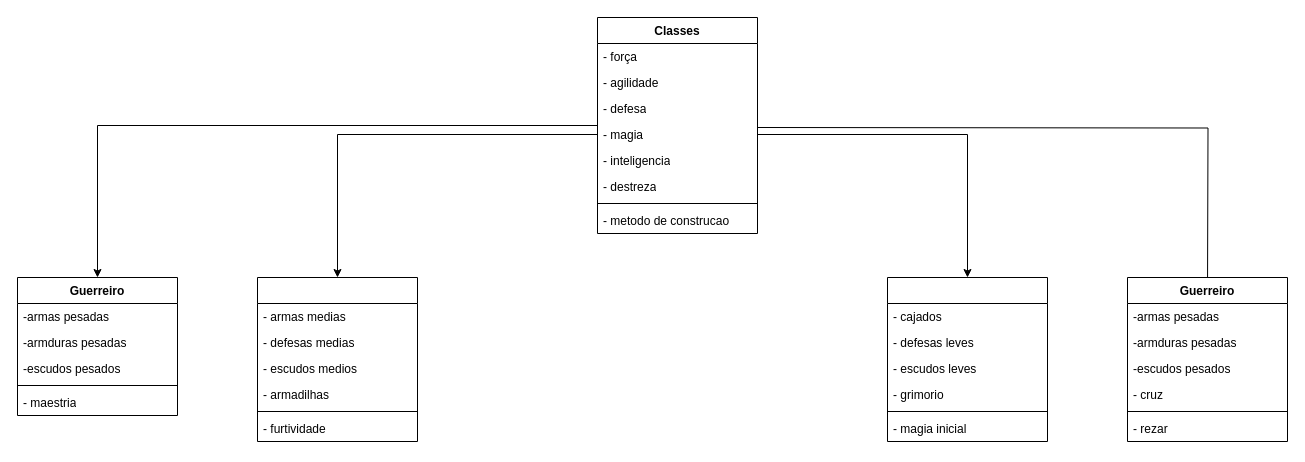
This 1305x462 diagram has some shape labels left out. Here are the shapes that lost their labels. From the top down, the box of each, then its label:
(256, 276, 418, 442): Ladino
(886, 276, 1048, 442): Mago
